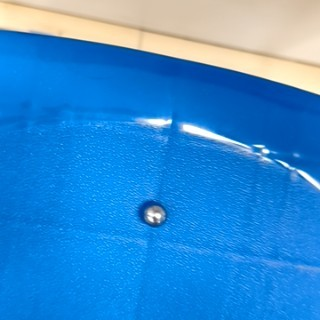ironball: (135, 196, 174, 238)
